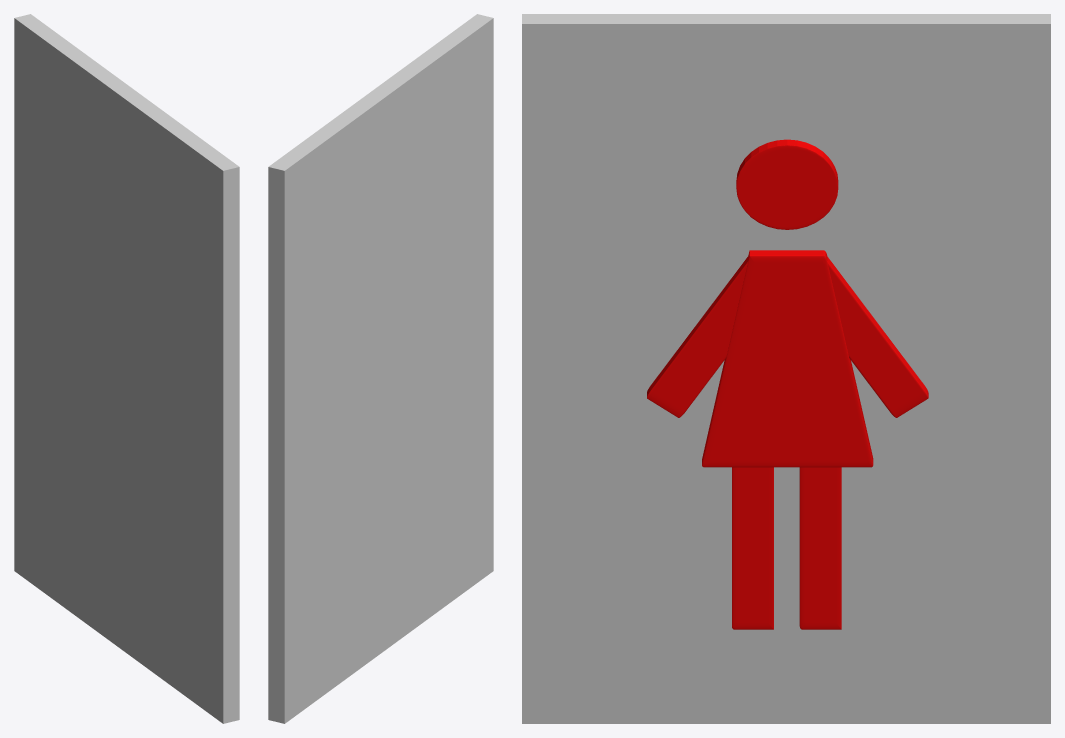
File: Women.fbx
3 views of the same model, side by side, from view 1: azimuth 30°, elevation 25°; view 2: azimuth 150°, elevation 25°; view 3: azimuth 270°, elevation 25° (orthographic). The views are drawn at different scales.
Visible parts, largest first — view 1: Cube.003; view 2: Cube.003; view 3: Cube.003, Cube.018, Cube.017, Cube.019, Cube.020, Cube.002, Cube.008.
Boxes of the visible parts, box(x1,y1,x2,y2) form: Cube.003: box(14, 14, 239, 723); Cube.003: box(268, 14, 493, 723); Cube.003: box(522, 14, 1050, 723); Cube.018: box(702, 250, 873, 467); Cube.017: box(736, 139, 838, 229); Cube.019: box(799, 467, 841, 629); Cube.020: box(732, 467, 773, 629); Cube.002: box(647, 256, 748, 417); Cube.008: box(827, 256, 928, 417).
Size of the model in its own units: 32.85 by 662 by 453.
